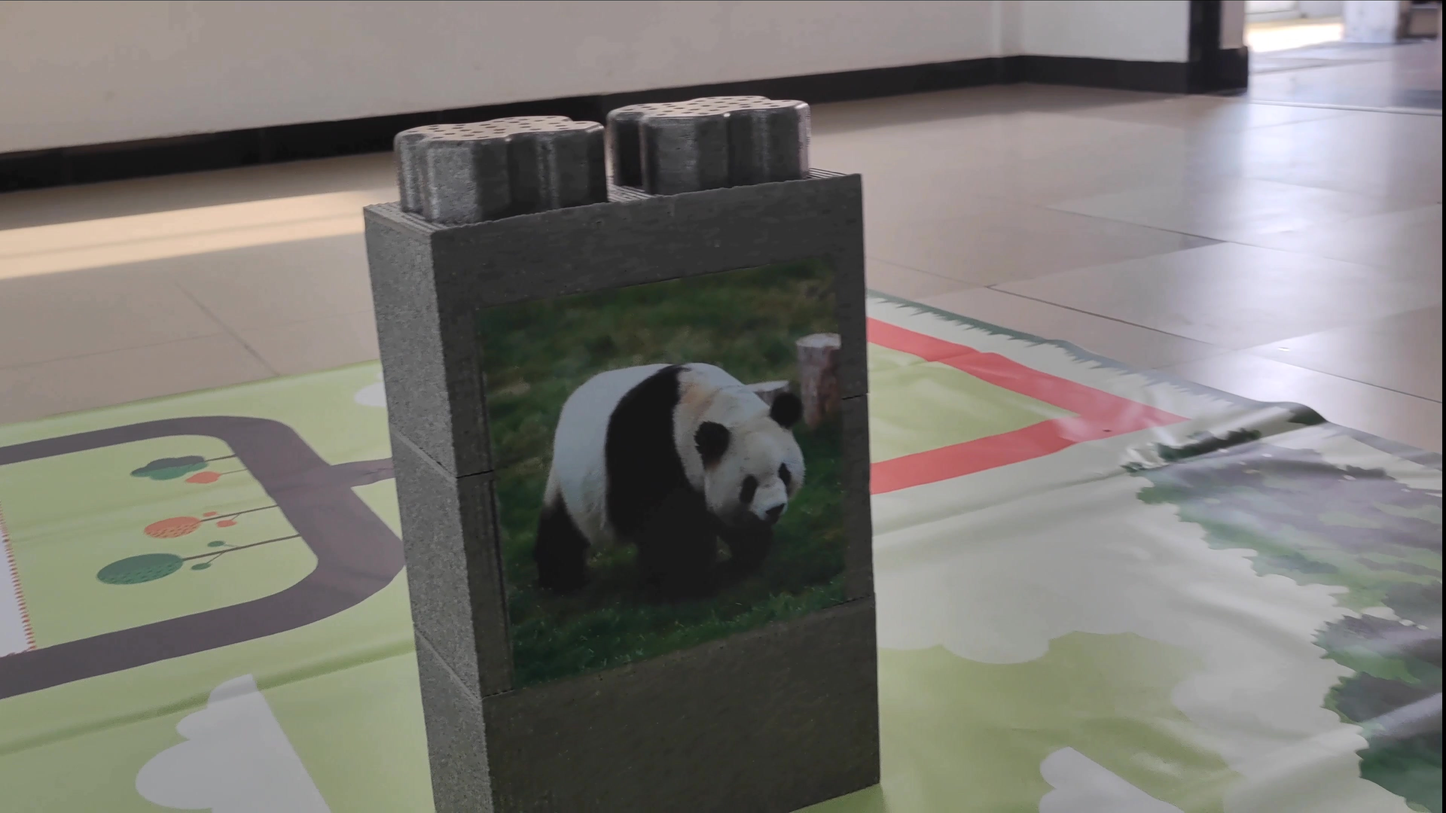panda: (502, 336, 833, 598)
